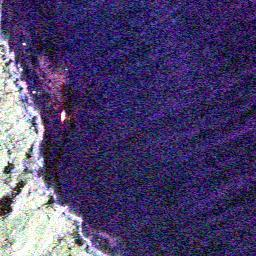Ship: (56, 107, 68, 124)
